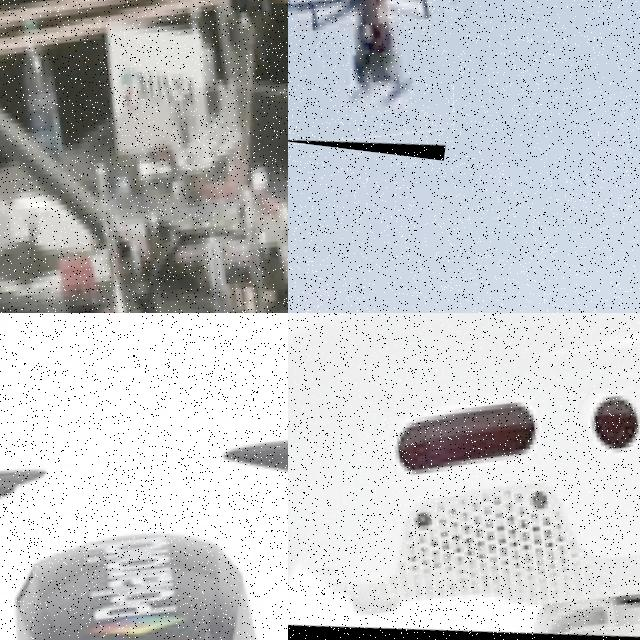drone: (288, 313, 640, 640), (0, 318, 288, 640), (0, 0, 288, 313), (288, 0, 474, 160)
